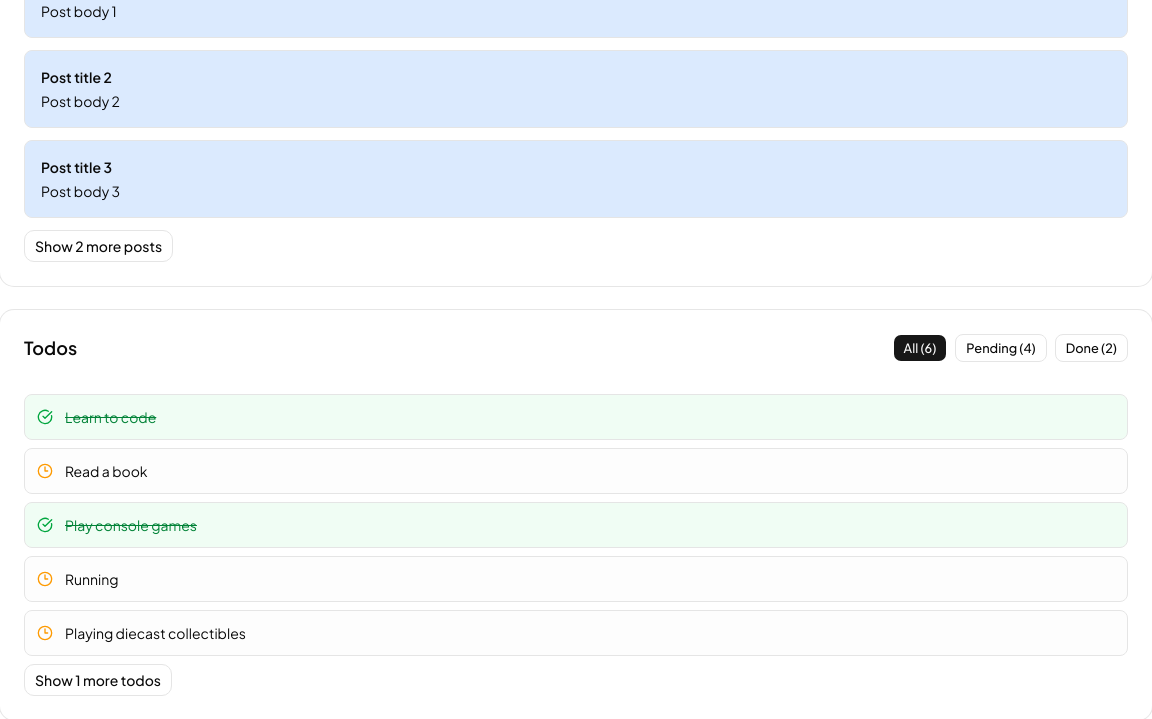
User Detail › todos section › shows more todos when button clicked
(page scrolled)
Step 1. Click the button "Show 1 more todos" → click(98, 680), box [24,664,172,696]
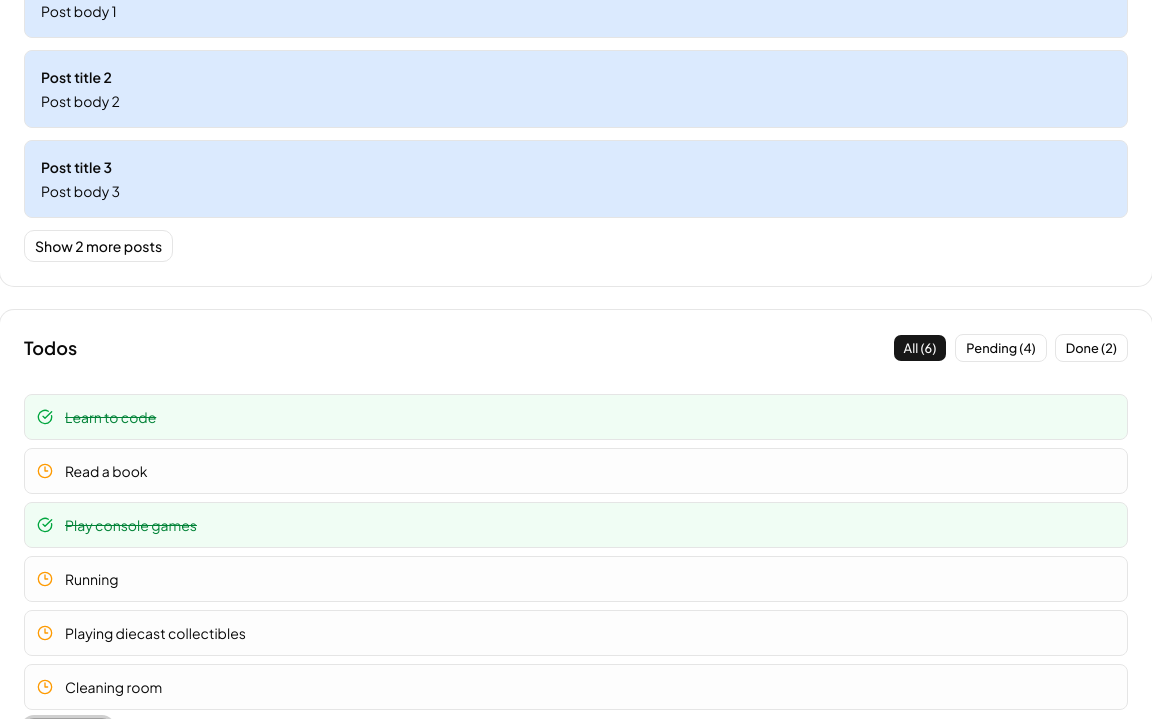
Expected: the text "Cleaning room" is shown, [65,677,162,697]
